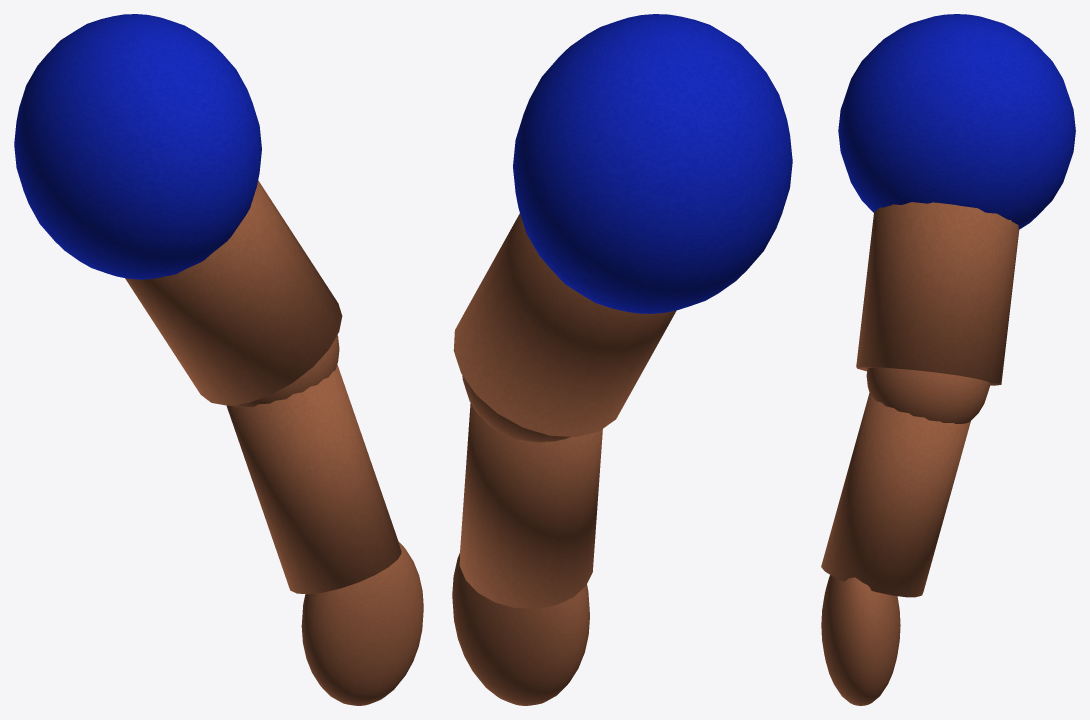
File: jugador_azul_brazo.obj
3 views of the same model, side by side, from view 1: azimuth 30°, elevation 25°; view 2: azimuth 150°, elevation 25°; view 3: azimuth 270°, elevation 25° (orthographic). The views are drawn at different scales.
Visible parts, largest first — view 1: Jugador_Azul_Brazo_Piel, Jugador_Azul_Brazo_Camiseta_Azul; view 2: Jugador_Azul_Brazo_Camiseta_Azul, Jugador_Azul_Brazo_Piel; view 3: Jugador_Azul_Brazo_Piel, Jugador_Azul_Brazo_Camiseta_Azul.
Boxes of the visible parts, left/top/right/bottom form: Jugador_Azul_Brazo_Piel: left=125, top=180, right=423, bottom=705; Jugador_Azul_Brazo_Camiseta_Azul: left=14, top=14, right=261, bottom=279; Jugador_Azul_Brazo_Camiseta_Azul: left=513, top=14, right=792, bottom=313; Jugador_Azul_Brazo_Piel: left=452, top=213, right=676, bottom=705; Jugador_Azul_Brazo_Piel: left=821, top=202, right=1019, bottom=705; Jugador_Azul_Brazo_Camiseta_Azul: left=838, top=14, right=1075, bottom=229.
Size of the model in its own units: 0.302 by 0.59 by 0.2252.
